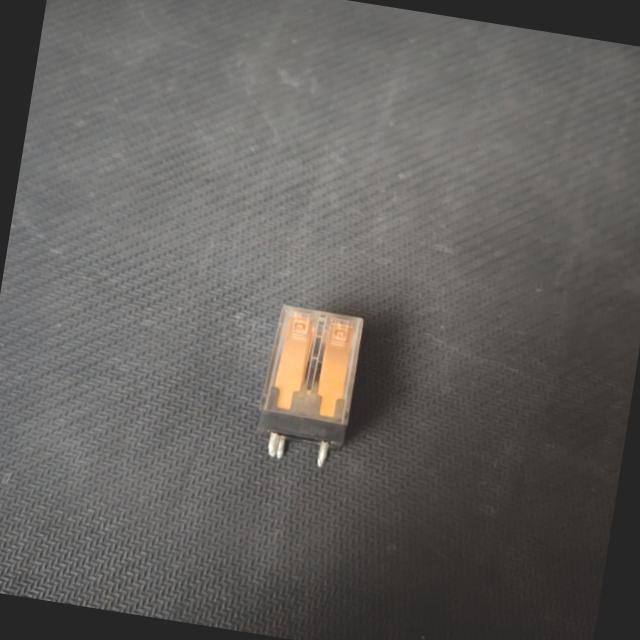relay: (236, 292, 384, 482)
